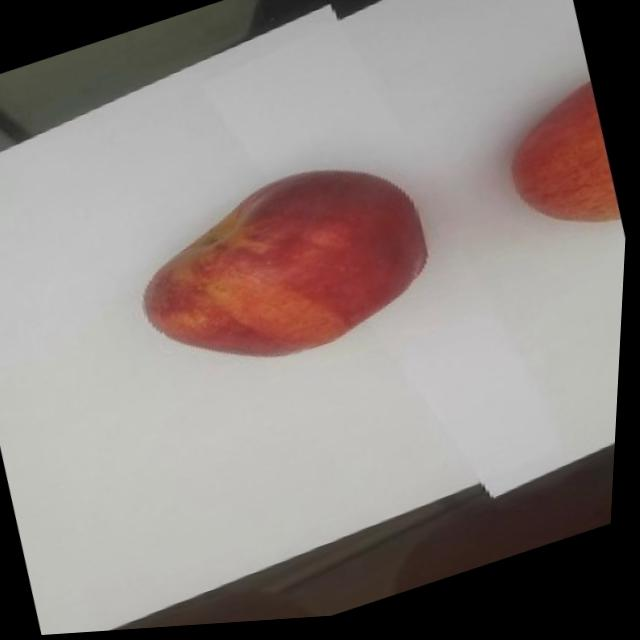Apple: (122, 142, 453, 405), (493, 87, 631, 261)
